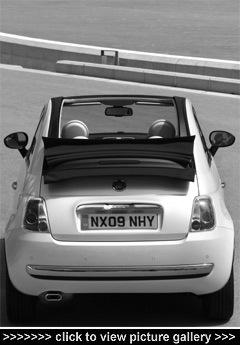car: (3, 95, 239, 307)
